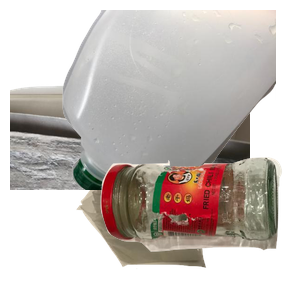glass: (98, 155, 300, 300)
paper: (10, 77, 250, 257)
plastic: (60, 10, 300, 190)
trash: (74, 148, 273, 300)
